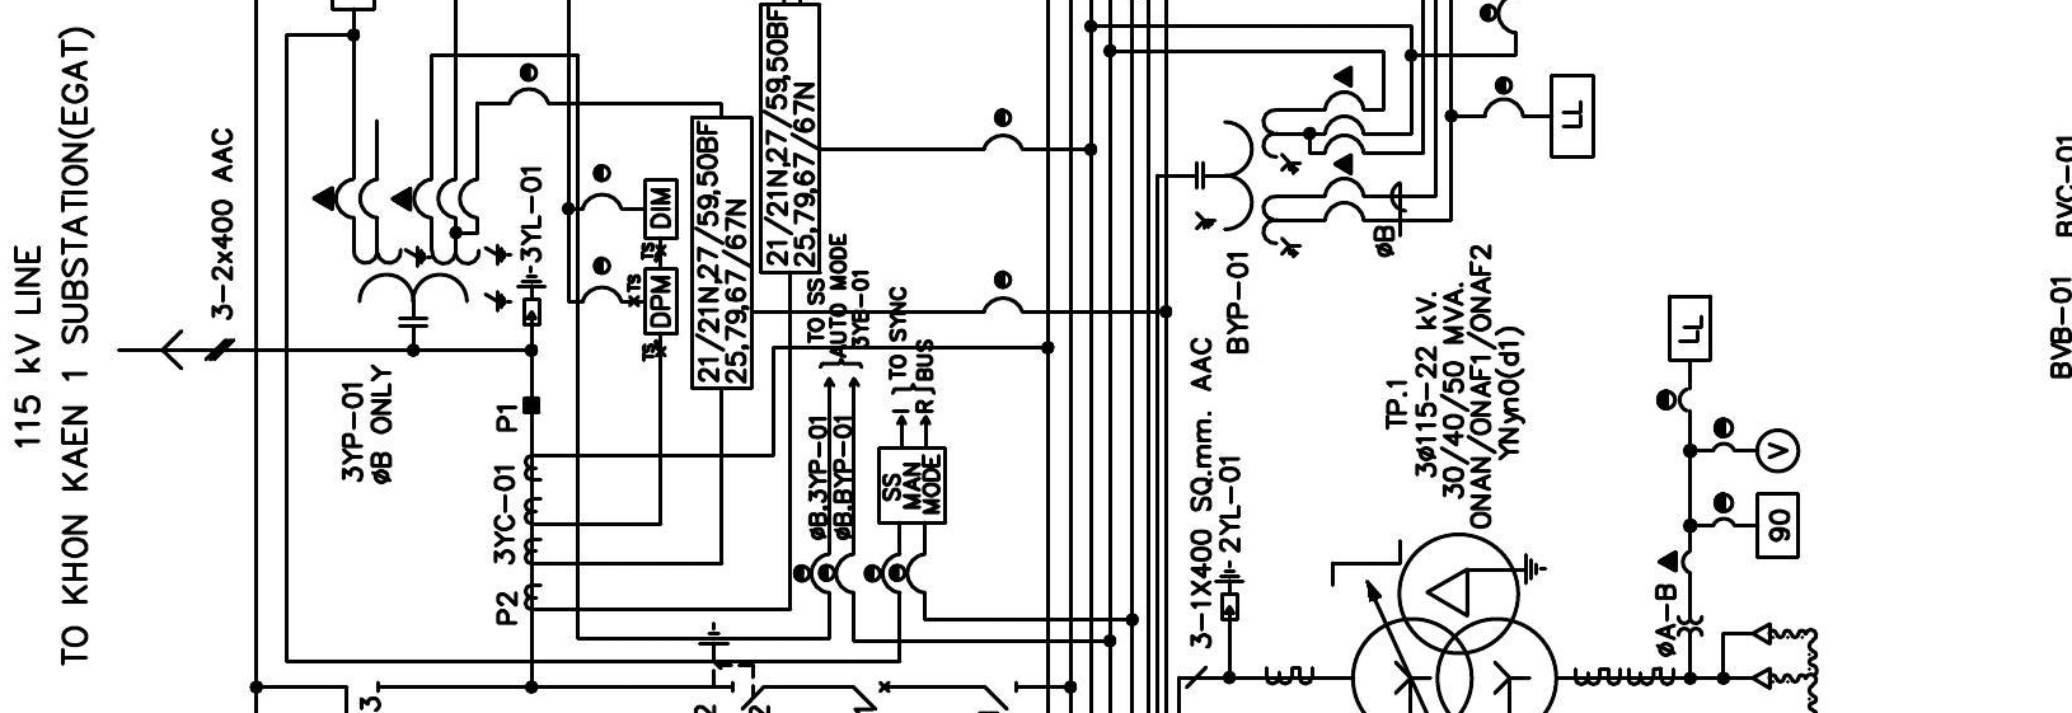115_breaker: (852, 680, 891, 711)
115_cvt_1p: (310, 176, 515, 328)
115_cvt_3p: (1194, 107, 1303, 260)
115_ds: (983, 679, 1018, 711)
115_la: (515, 264, 548, 327), (1213, 560, 1246, 622)
DIM: (642, 177, 679, 240)
DPM: (642, 266, 679, 336)
LL: (1549, 74, 1596, 159), (1668, 294, 1713, 363)
ss_man_mode: (876, 446, 948, 526)
terminator_double: (1720, 620, 1772, 691)
v_m: (1754, 427, 1802, 474)
